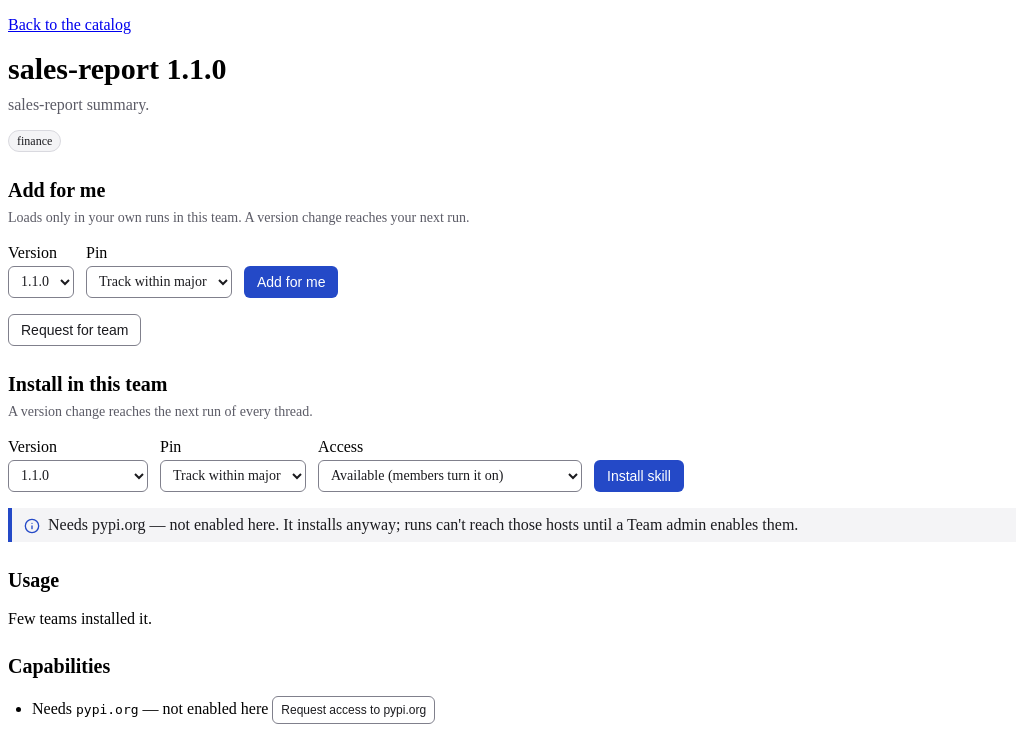
Scenario: Catalog detail › installs from the detail; a Builder isn't offered Required (KOBE-337)
expect the text "Needs pypi.org — not enabled here. It installs anyway" is shown: met, box [48,516,798,532]
Select "On by default (members may turn it off)" in the dropdown labelled "Access" at (450, 476), box [318,460,582,492]
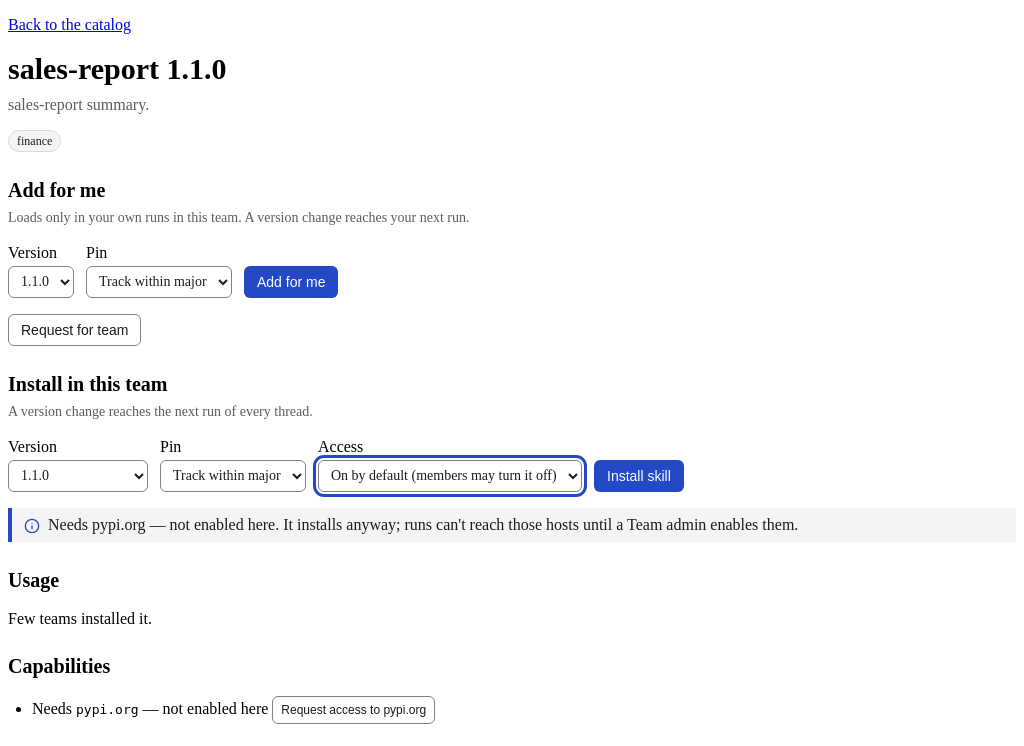
Click the button "Install skill" at (639, 476), box [594,460,684,492]
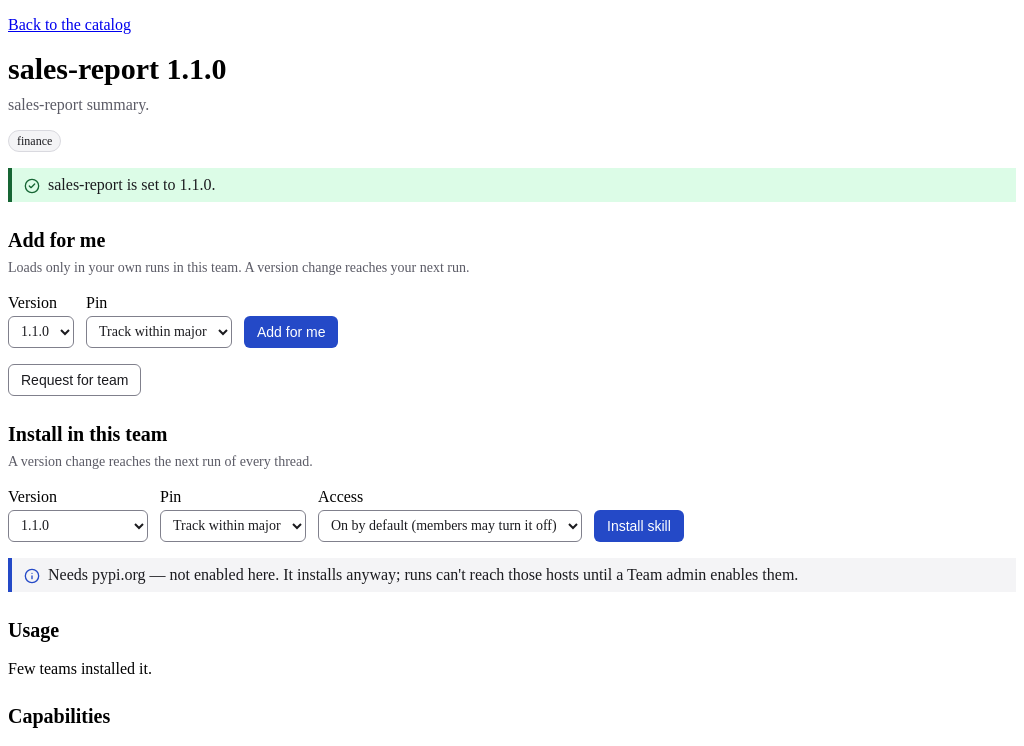
expect the text "sales-report is set to 1.1.0." is shown: met, box [48,176,216,192]
